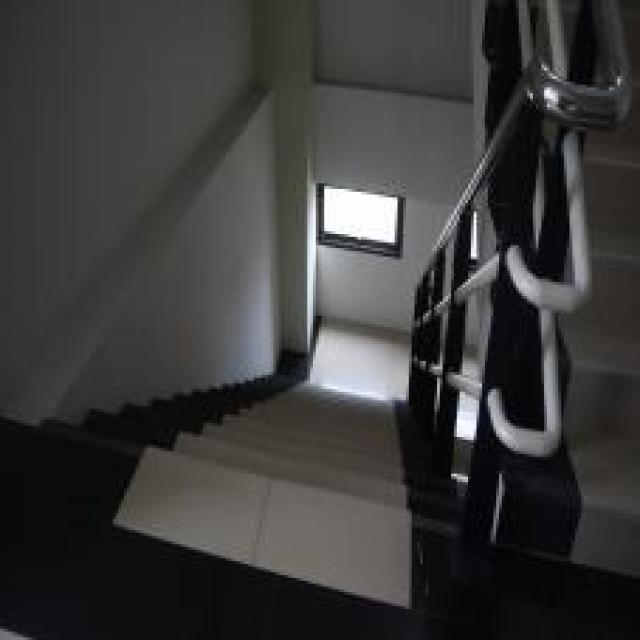downstair: (58, 404, 413, 579)
